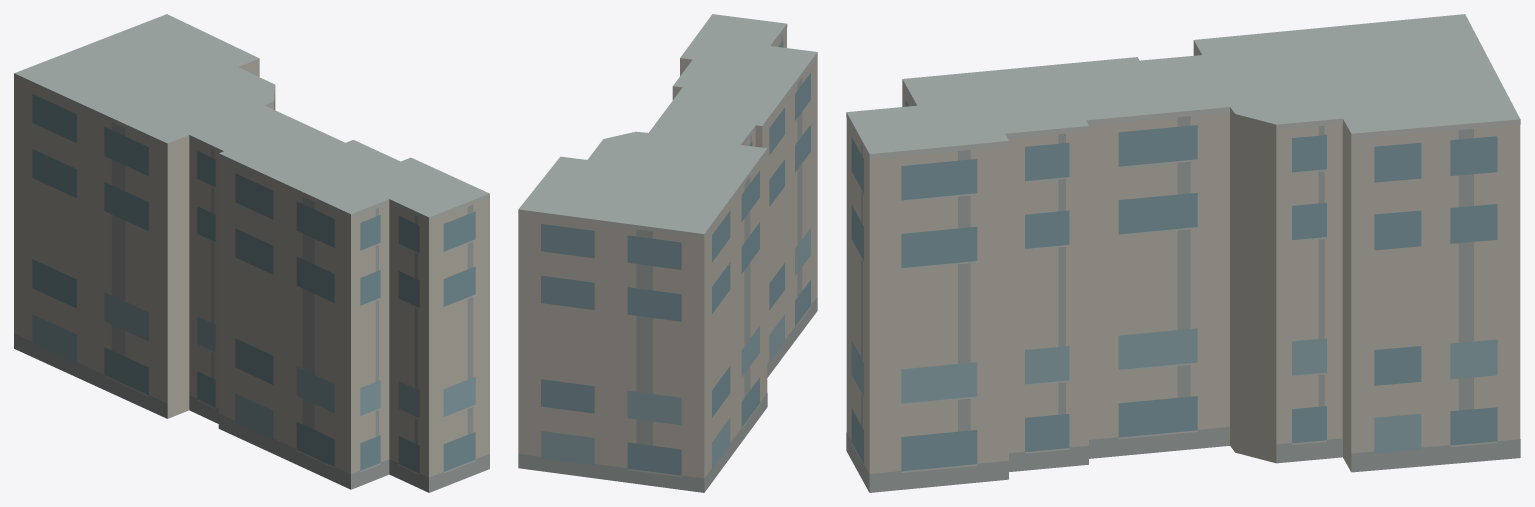
The model's file is survey-upis-32644806.glb.
3 renders of one model, left to right at view 1: azimuth 30°, elevation 25°; view 2: azimuth 150°, elevation 25°; view 3: azimuth 270°, elevation 25°, orthographic. The views are drawn at different scales.
Visible parts, largest first — view 1: survey-upis-32644806.tmp; view 2: survey-upis-32644806.tmp; view 3: survey-upis-32644806.tmp.
Boxes of the visible parts, x1,y1,x2,y2 form: survey-upis-32644806.tmp: (14,14,489,492); survey-upis-32644806.tmp: (518,14,817,492); survey-upis-32644806.tmp: (846,14,1520,492).
Size of the model in its own units: 13.54 by 15.25 by 27.51.
